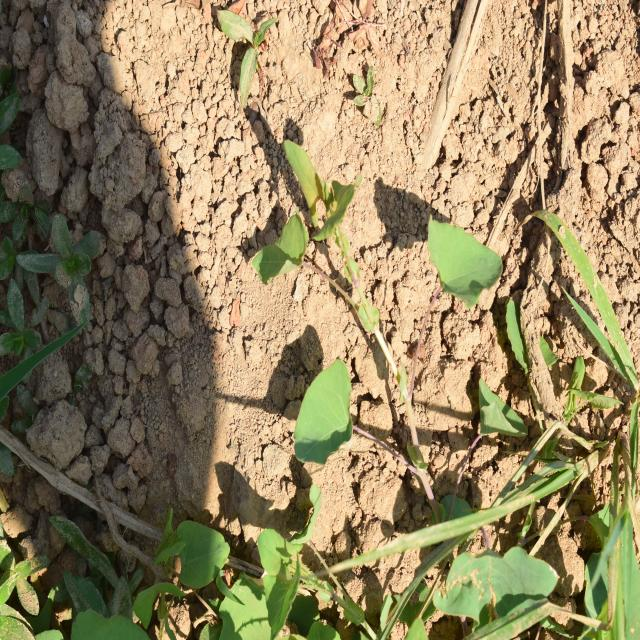Asiatic_Smartweed: (232, 141, 386, 474), (160, 500, 347, 638)
